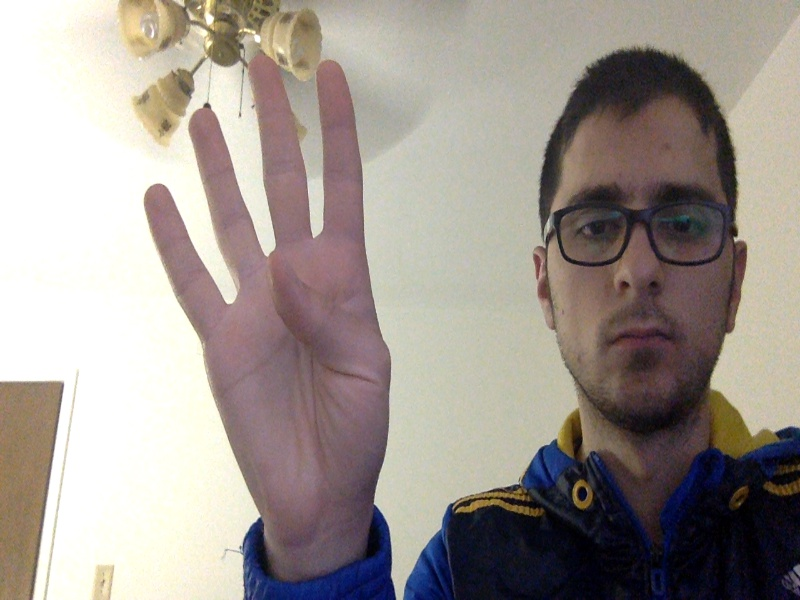4-hand: (139, 55, 390, 543)
